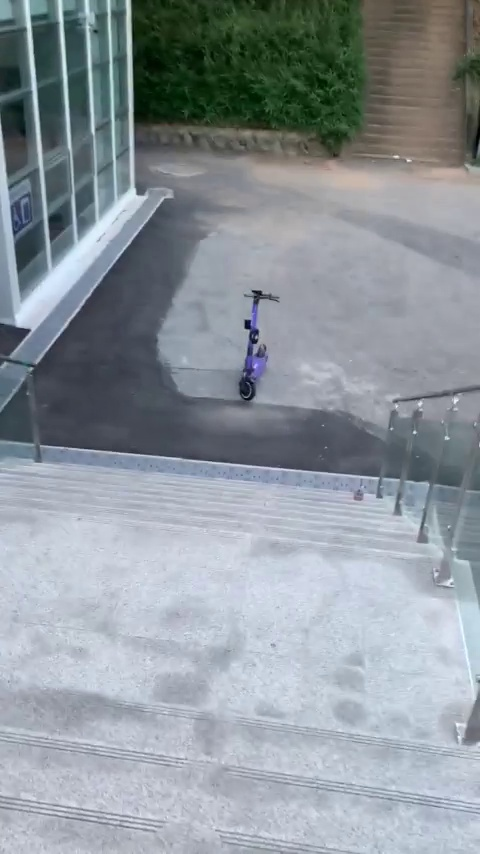beam: (235, 281, 280, 412)
